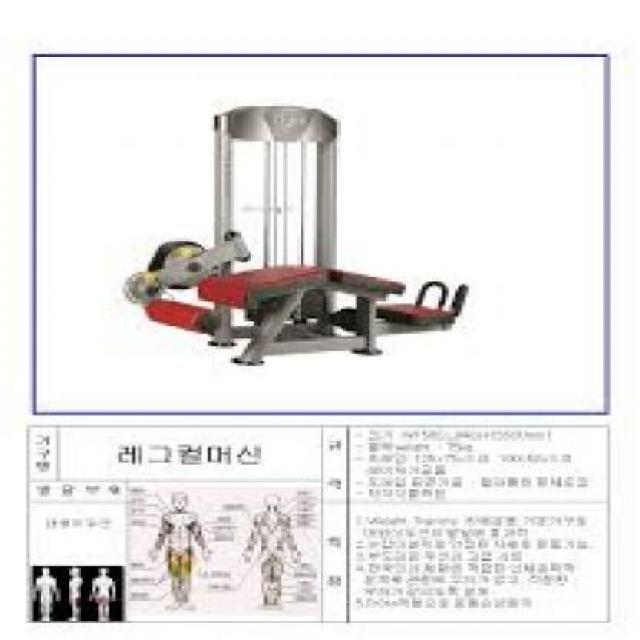reg curl machine: (120, 102, 477, 376)
